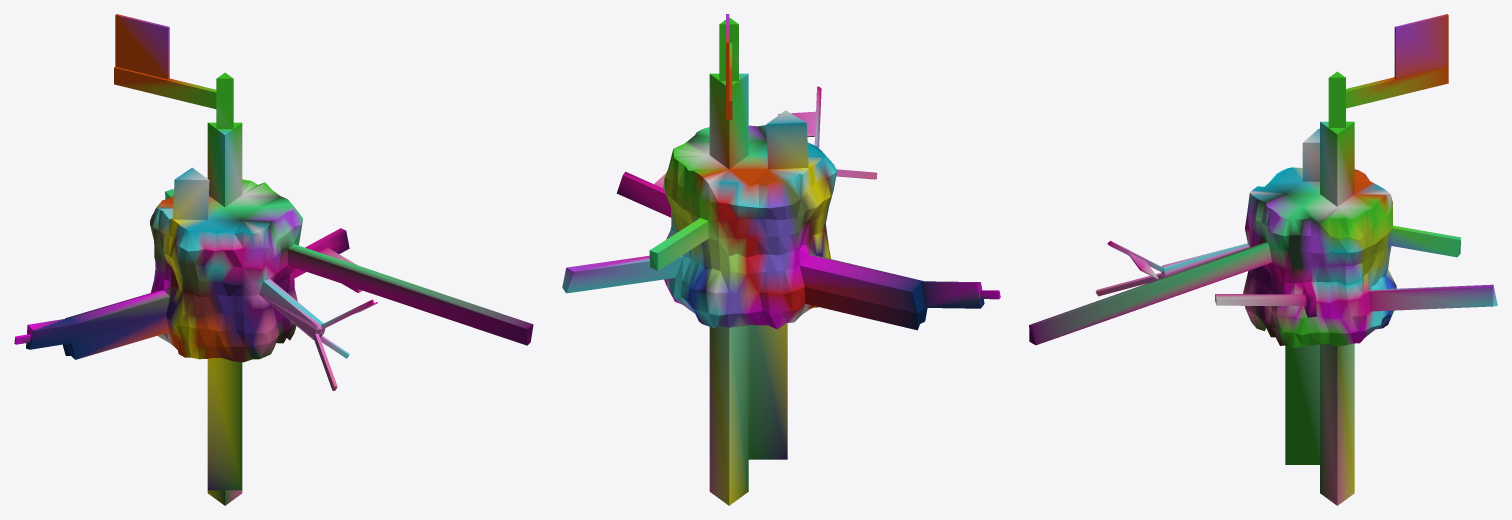
Rendered from behold.obj.
The picture shows the model from 3 angles, left to right: view 1: azimuth 30°, elevation 25°; view 2: azimuth 150°, elevation 25°; view 3: azimuth 270°, elevation 25°; orthographic projection. The views are drawn at different scales.
Parts seen in each view (by area): view 1: Cylinder; view 2: Cylinder; view 3: Cylinder.
Part boxes in pixels (bbox=[...]): Cylinder: bbox=[14, 14, 533, 505]; Cylinder: bbox=[562, 14, 1000, 505]; Cylinder: bbox=[1029, 14, 1497, 505].
Size of the model in its own units: 0.6023 by 0.6871 by 0.6391.
